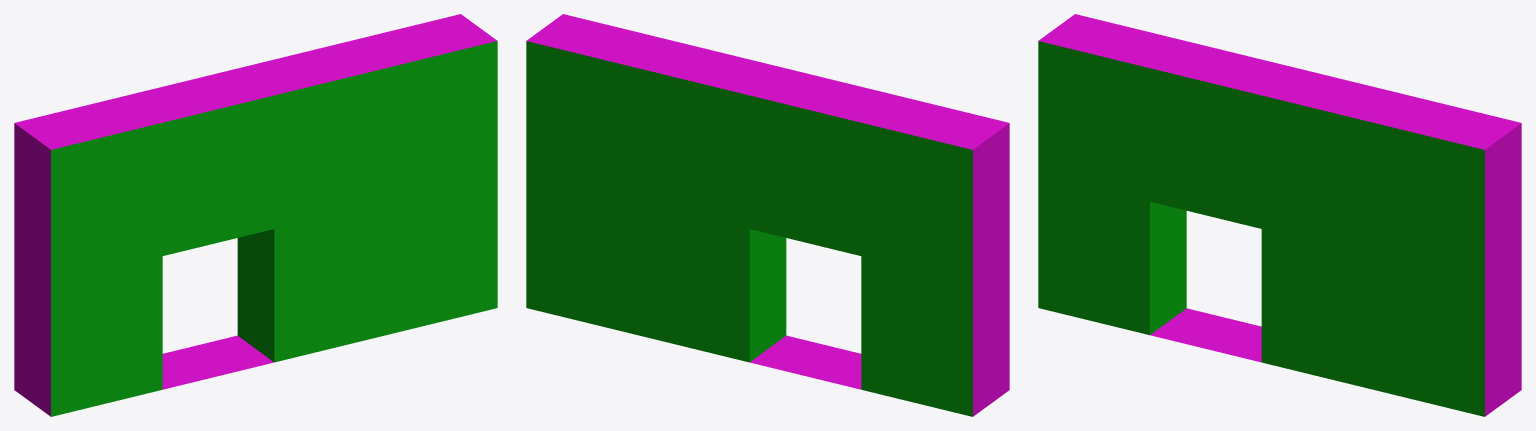
Rendered from wall_door.fbx.
3 renders of one model, left to right at view 1: azimuth 30°, elevation 25°; view 2: azimuth 150°, elevation 25°; view 3: azimuth 330°, elevation 25°, orthographic.
Parts seen in each view (by area): view 1: Cube; view 2: Cube; view 3: Cube.
Part boxes in pixels (x1,y1,x2,y2): Cube: [14, 14, 497, 416]; Cube: [526, 14, 1009, 416]; Cube: [1038, 14, 1521, 416].
Bounding box in the file's own units: 1400 × 800 × 200.
